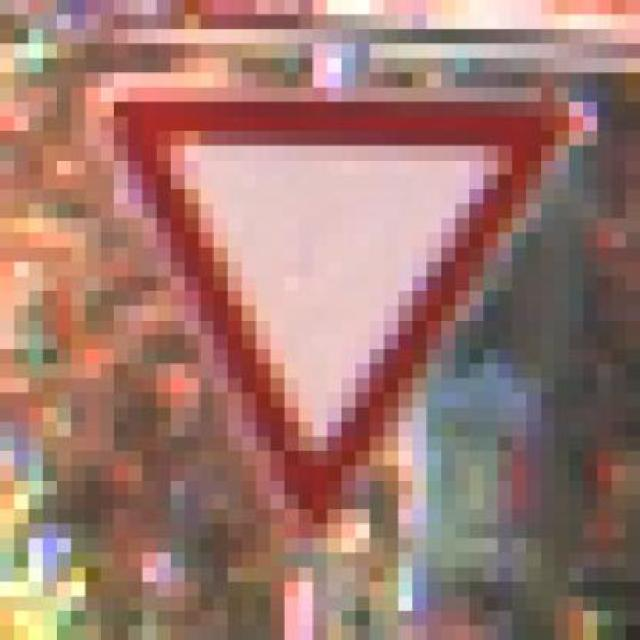Give Way: (114, 88, 583, 538)
